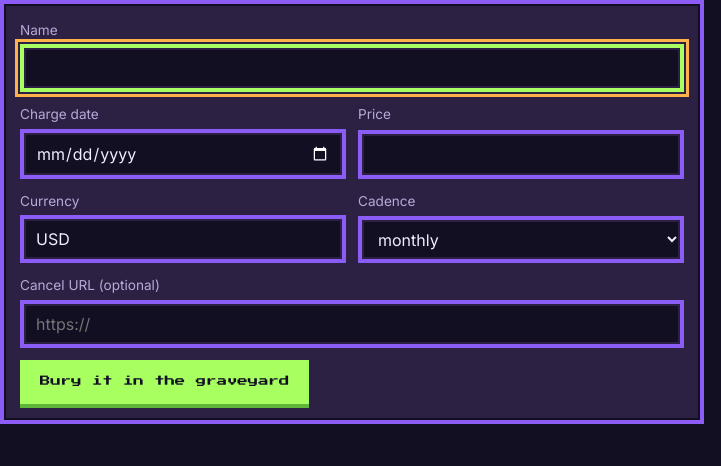
Test: GraveForm › shows an inline error and does not save: non-http URL
Type "A" into the field labelled "Name". click: (352,68)
box: [20,44,684,92]
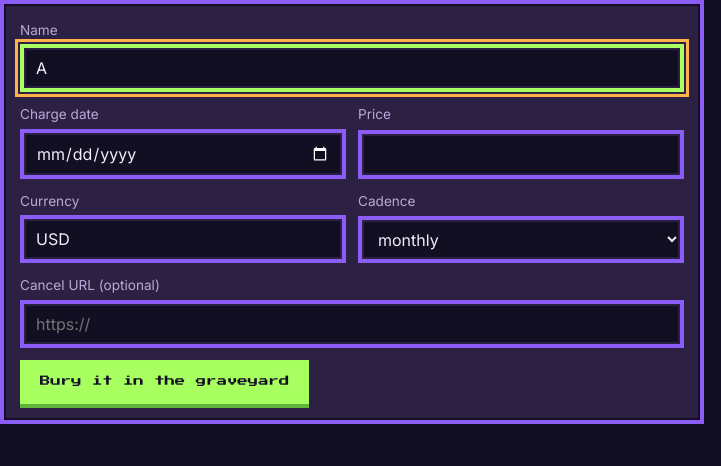
Type "2026-10-31" into the date field labelled "Charge date". click: (183,154)
box: [20,129,346,179]
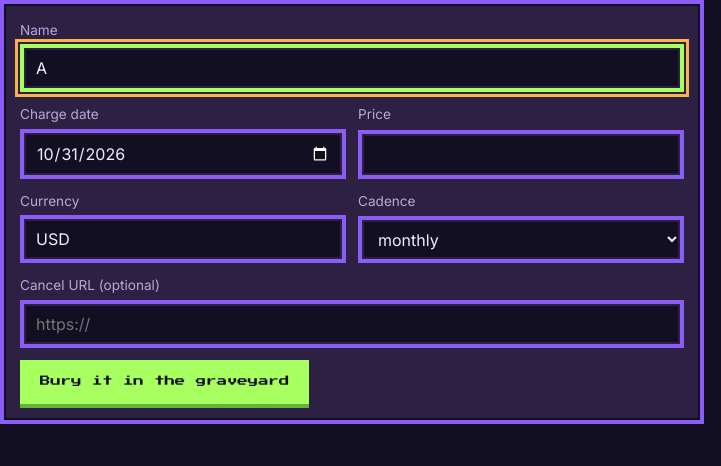
Type "5" into the field labelled "Price". click: (521,154)
box: [358,130,684,179]
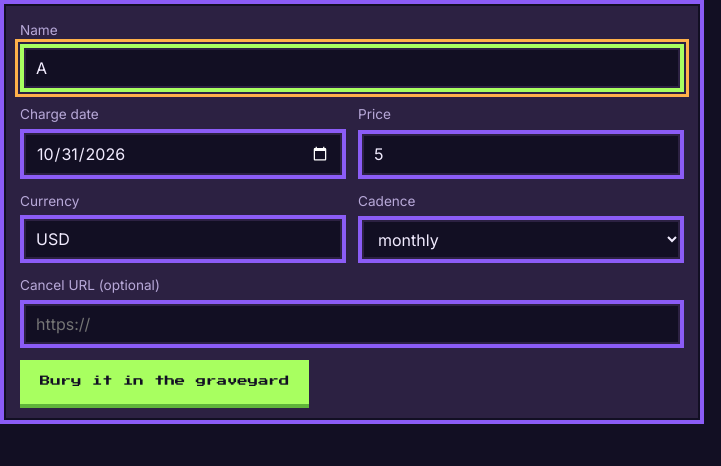
Type "javascript:alert(1)" into the field labelled "Cancel URL (optional)". click: (352,324)
box: [20,300,684,348]
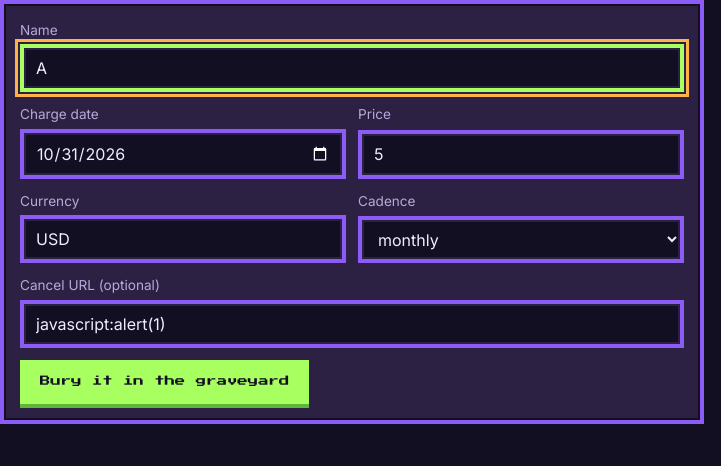
Submit the form named "Grave details"
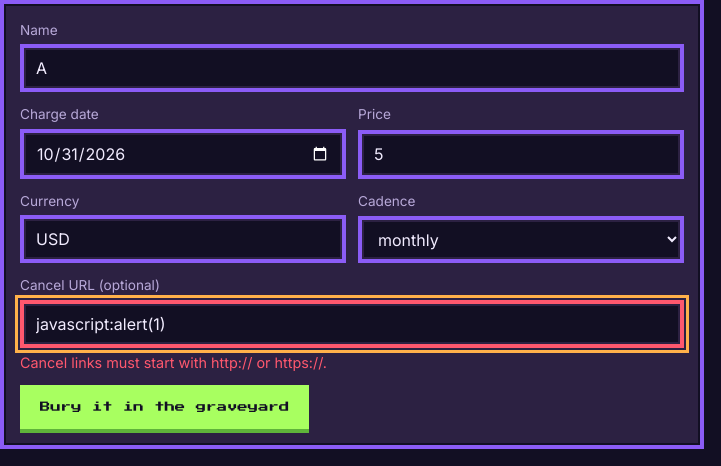
Expected: the message reads "Cancel links must start with http:// or https://.", [20,354,327,371]
